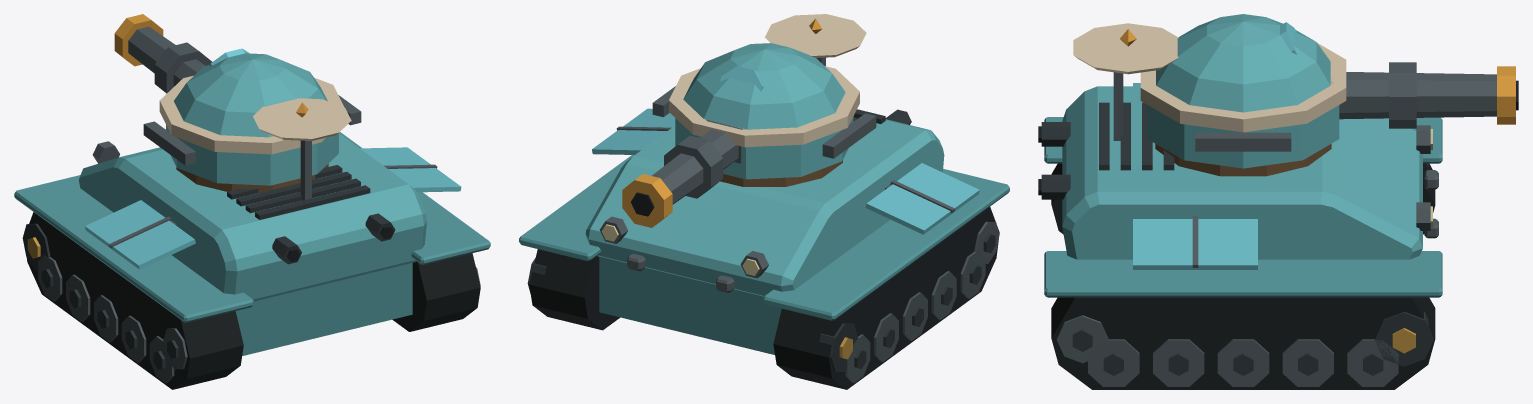
3 renders of one model, left to right at view 1: azimuth 30°, elevation 25°; view 2: azimuth 150°, elevation 25°; view 3: azimuth 270°, elevation 25°, orthographic. The views are drawn at different scales.
Parts seen in each view (by area): view 1: hull_11, turret_11; view 2: hull_11, turret_11; view 3: hull_11, turret_11.
Boxes of the visible parts, x1,y1,x2,y2 form: hull_11: (14, 98, 490, 389); turret_11: (114, 14, 361, 192); hull_11: (519, 14, 1009, 389); turret_11: (622, 43, 876, 227); hull_11: (1038, 23, 1442, 389); turret_11: (1140, 14, 1518, 176).
Size of the model in its own units: 0.9079 by 0.658 by 1.
